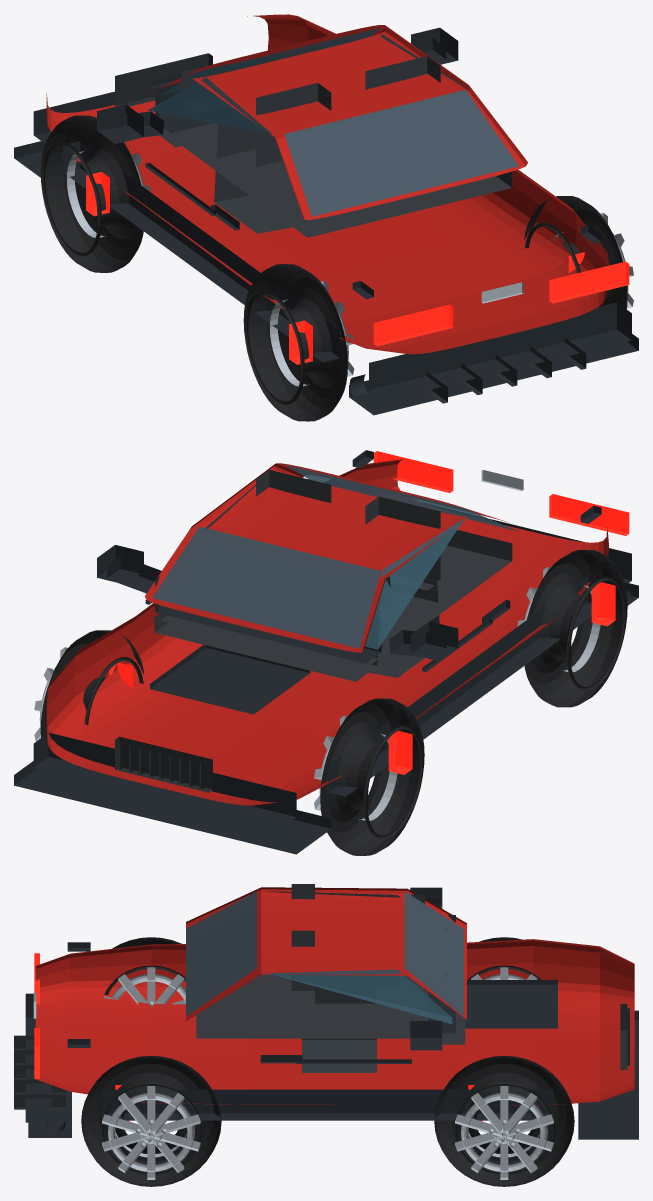
Rendered from ghibli_sport_coupe.gltf.
The picture shows the model from 3 angles, top to bottom: view 1: azimuth 30°, elevation 25°; view 2: azimuth 150°, elevation 25°; view 3: azimuth 270°, elevation 25°; orthographic projection. The views are drawn at different scales.
Parts seen in each view (by area): view 1: Body_Painted_Shell, Glazing_And_Seals, Aero_Trim_And_Details, Cabin_Roof_And_Pillars, Leather_Interior, Wheel_Rear_Left_Rubber, Wheel_Front_Left_Rubber, Mirrors_Handles_And_Exhaust, Lighting_Units, Front_Grille_And_Exhaust, Wheel_Rear_Right_Rubber, Dashboard_And_Console (+4 smaller); view 2: Body_Painted_Shell, Aero_Trim_And_Details, Glazing_And_Seals, Cabin_Roof_And_Pillars, Leather_Interior, Wheel_Front_Left_Rubber, Wheel_Rear_Left_Rubber, Mirrors_Handles_And_Exhaust, Lighting_Units, Front_Grille_And_Exhaust, Dashboard_And_Console, Wheel_Front_Right_Rubber (+2 smaller); view 3: Body_Painted_Shell, Aero_Trim_And_Details, Glazing_And_Seals, Leather_Interior, Cabin_Roof_And_Pillars, Wheel_Rear_Right_Rubber, Wheel_Front_Right_Rubber, Wheel_Rear_Right_Forged_Rim, Wheel_Front_Right_Forged_Rim, Mirrors_Handles_And_Exhaust, Front_Grille_And_Exhaust, Wheel_Rear_Left_Forged_Rim (+3 smaller).
Part boxes in pixels (x1,y1,x2,y2): Body_Painted_Shell: [46, 14, 608, 354]; Glazing_And_Seals: [147, 27, 518, 216]; Aero_Trim_And_Details: [14, 73, 638, 415]; Cabin_Roof_And_Pillars: [151, 25, 527, 219]; Leather_Interior: [159, 49, 512, 237]; Wheel_Rear_Left_Rubber: [243, 264, 347, 421]; Wheel_Front_Left_Rubber: [40, 115, 143, 272]; Mirrors_Handles_And_Exhaust: [97, 27, 601, 398]; Lighting_Units: [373, 261, 629, 346]; Front_Grille_And_Exhaust: [115, 53, 586, 403]; Wheel_Rear_Right_Rubber: [524, 196, 627, 308]; Dashboard_And_Console: [155, 82, 212, 133]; Body_Painted_Shell: [46, 459, 608, 805]; Aero_Trim_And_Details: [14, 519, 638, 854]; Glazing_And_Seals: [152, 464, 518, 649]; Cabin_Roof_And_Pillars: [145, 463, 507, 652]; Leather_Interior: [154, 469, 512, 681]; Wheel_Front_Left_Rubber: [320, 698, 424, 855]; Wheel_Rear_Left_Rubber: [524, 550, 627, 707]; Mirrors_Handles_And_Exhaust: [97, 450, 631, 672]; Lighting_Units: [373, 451, 629, 535]; Front_Grille_And_Exhaust: [115, 736, 212, 792]; Dashboard_And_Console: [155, 576, 381, 663]; Wheel_Front_Right_Rubber: [40, 630, 144, 737]; Body_Painted_Shell: [35, 939, 634, 1105]; Aero_Trim_And_Details: [25, 980, 638, 1139]; Glazing_And_Seals: [186, 891, 463, 1024]; Leather_Interior: [196, 884, 465, 1072]; Cabin_Roof_And_Pillars: [186, 887, 466, 1020]; Wheel_Rear_Right_Rubber: [81, 1055, 221, 1186]; Wheel_Front_Right_Rubber: [434, 1056, 574, 1186]; Wheel_Rear_Right_Forged_Rim: [102, 1086, 200, 1179]; Wheel_Front_Right_Forged_Rim: [455, 1086, 553, 1179]; Mirrors_Handles_And_Exhaust: [46, 887, 442, 1133]; Front_Grille_And_Exhaust: [14, 1004, 629, 1109]; Wheel_Rear_Left_Forged_Rim: [103, 967, 185, 1006].
Size of the model in its own units: 2.4 by 1.57 by 4.32.
